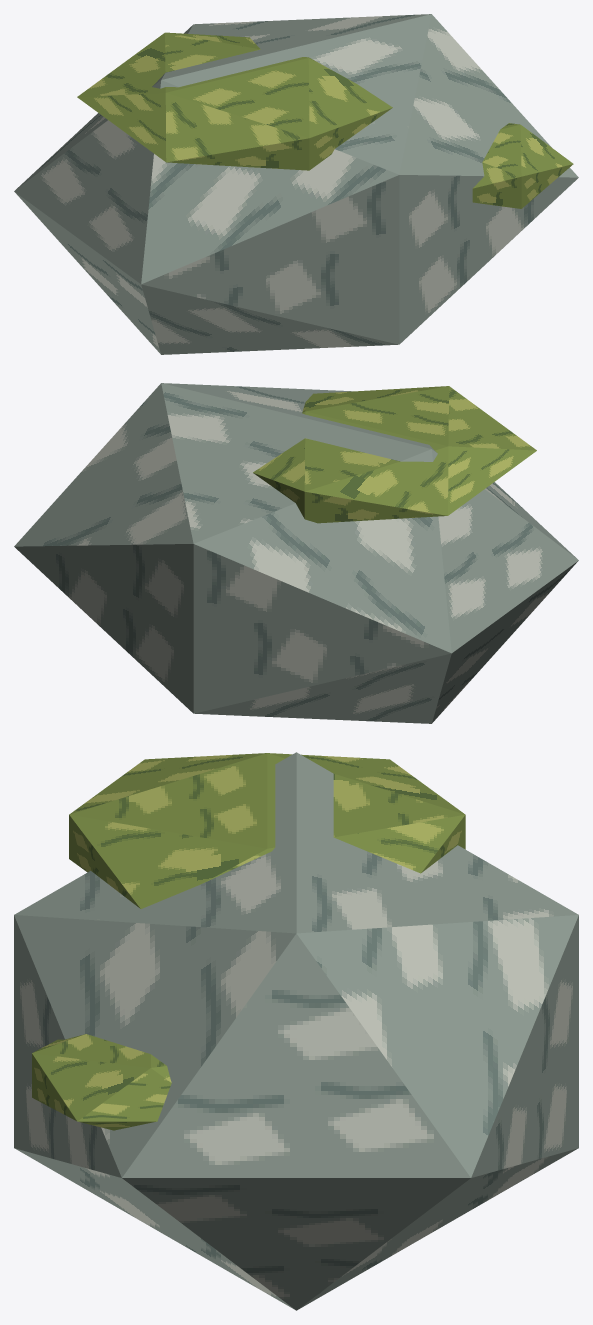
File: pedra-musgosa-v01.gltf
The picture shows the model from 3 angles, top to bottom: view 1: azimuth 30°, elevation 25°; view 2: azimuth 150°, elevation 25°; view 3: azimuth 270°, elevation 25°; orthographic projection. The views are drawn at different scales.
Parts seen in each view (by area): view 1: forma, musgo; view 2: forma, musgo; view 3: forma, musgo.
Boxes of the visible parts, x1,y1,x2,y2 form: forma: (14, 14, 578, 354); musgo: (77, 32, 573, 208); forma: (14, 383, 578, 723); musgo: (253, 386, 536, 523); forma: (14, 752, 578, 1310); musgo: (32, 753, 465, 1130).
Size of the model in its own units: 1.19 by 0.7145 by 0.9697.
1 material, 1 textured.
